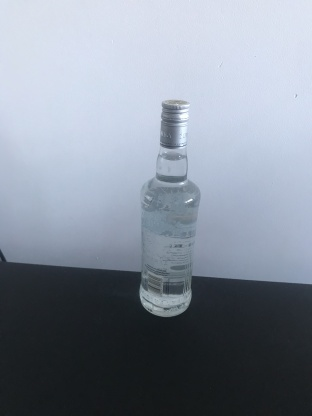nakretka: (158, 96, 191, 152)
